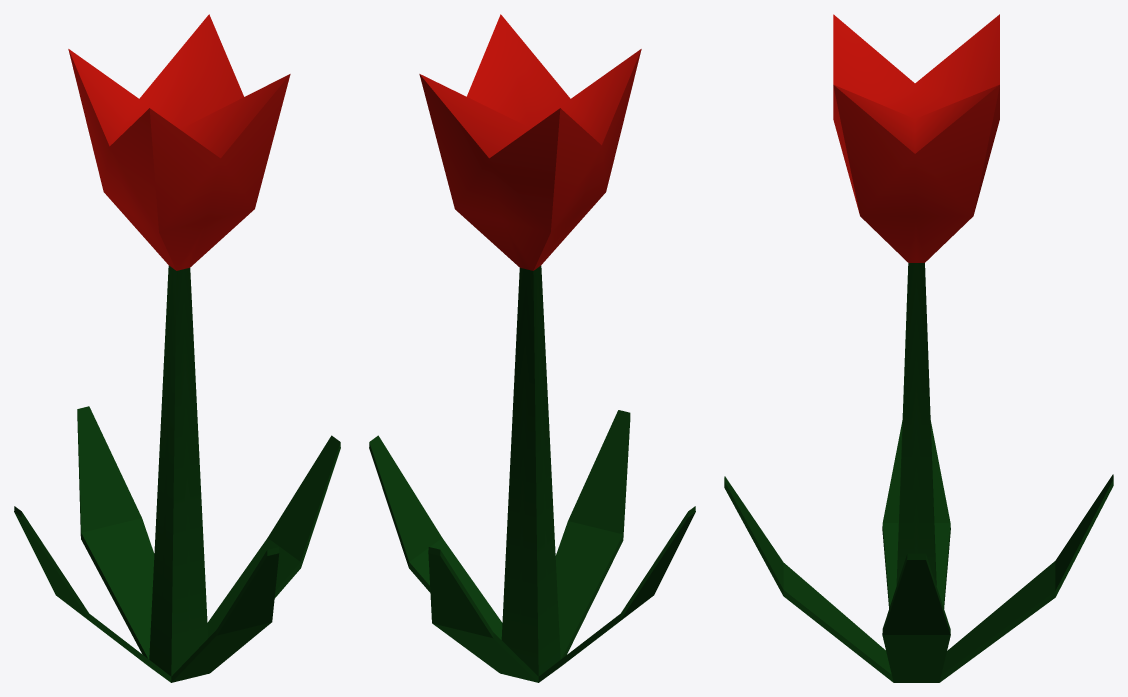
Rendered from flower_tulip.FBX.
The picture shows the model from 3 angles, left to right: view 1: azimuth 30°, elevation 25°; view 2: azimuth 150°, elevation 25°; view 3: azimuth 270°, elevation 25°; orthographic projection. The views are drawn at different scales.
Parts seen in each view (by area): view 1: flower_tulip_001; view 2: flower_tulip_001; view 3: flower_tulip_001.
Boxes of the visible parts, box(x1,y1,x2,y2) form: flower_tulip_001: box(14, 14, 340, 682); flower_tulip_001: box(369, 14, 695, 682); flower_tulip_001: box(724, 14, 1113, 682).
Size of the model in its own units: 16.19 by 29.61 by 16.74.
